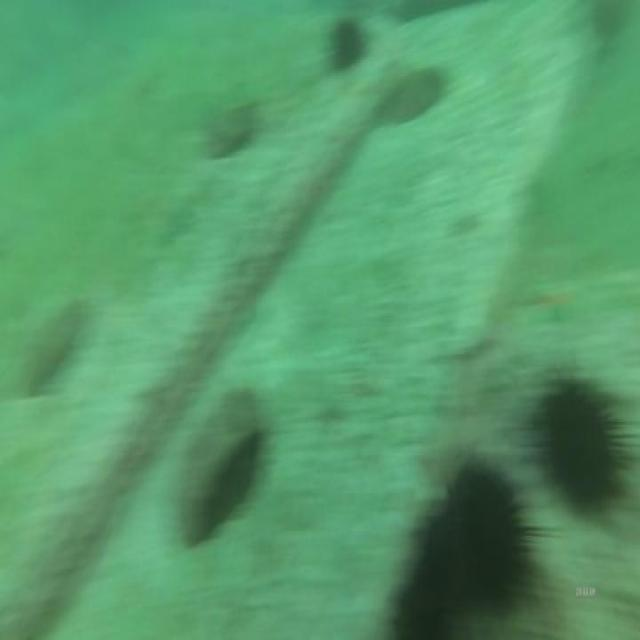echinus: (417, 432, 559, 636), (508, 350, 640, 540)
